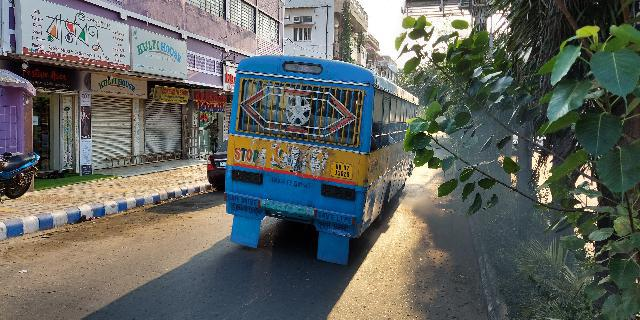Bus: (223, 53, 413, 269)
Car: (203, 137, 228, 191)
